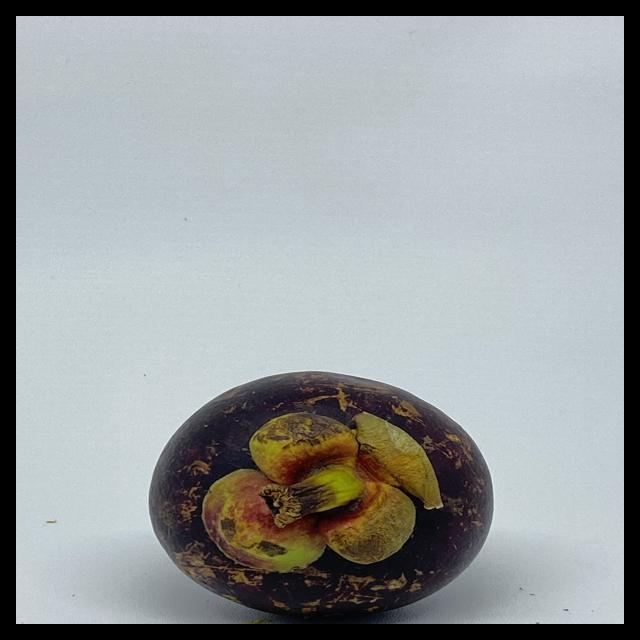mangosteen: (141, 338, 507, 624)
